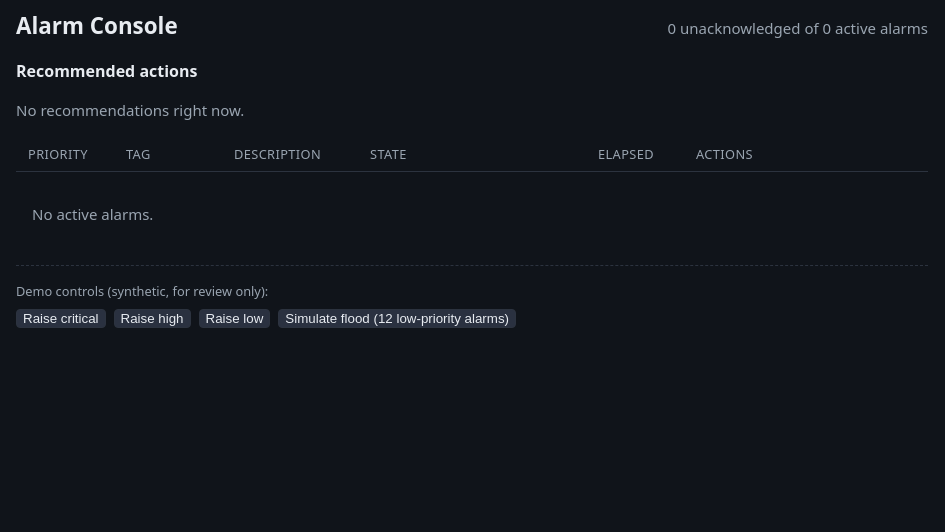
Scenario: AlarmConsole › accepting a SHELVE recommendation opens the real ShelveForm pre-filled, rather than shelving on one click
This screenshot has width=945, height=532.
What coordinates should you click on to do the following:
click the button "Raise low"
I would click on:
 (234, 319)
Its box is [198, 309, 270, 328].
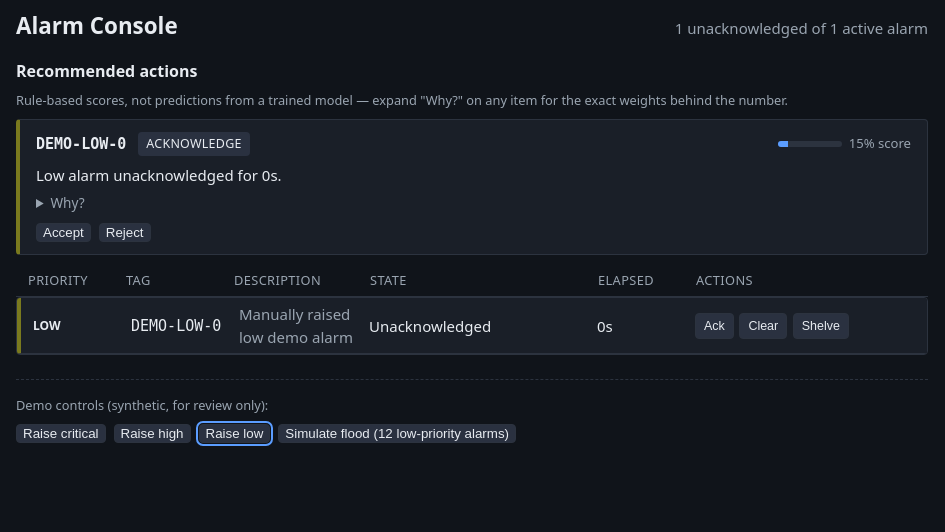
What coordinates should you click on to do the following:
click the button with aria-label "Acknowledge"
I would click on:
 (714, 326)
Its box is [695, 313, 734, 339].
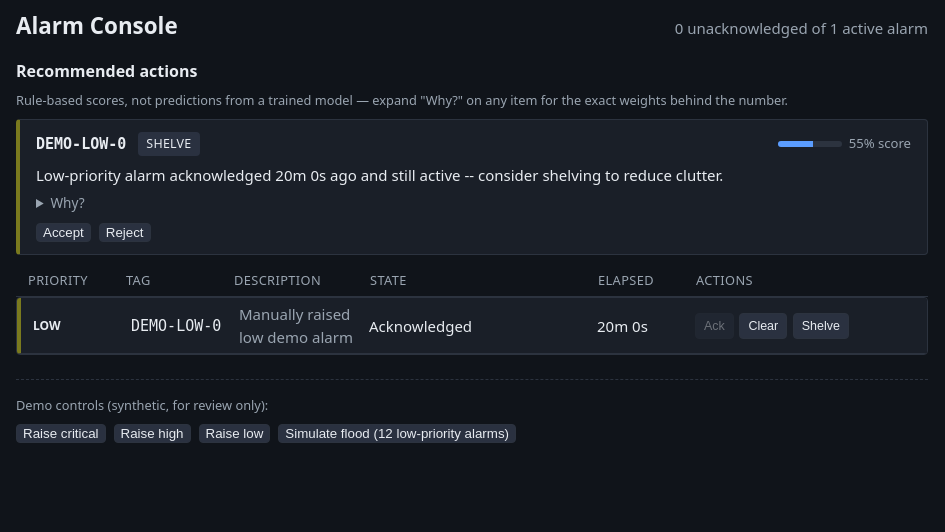
Check: the text "Shelve" is shown, box [138, 132, 200, 156]
What coordinates should you click on to do the following:
click the button with aria-label "Accept recommendation for"
I would click on:
 (63, 232)
Its box is [36, 223, 91, 242].
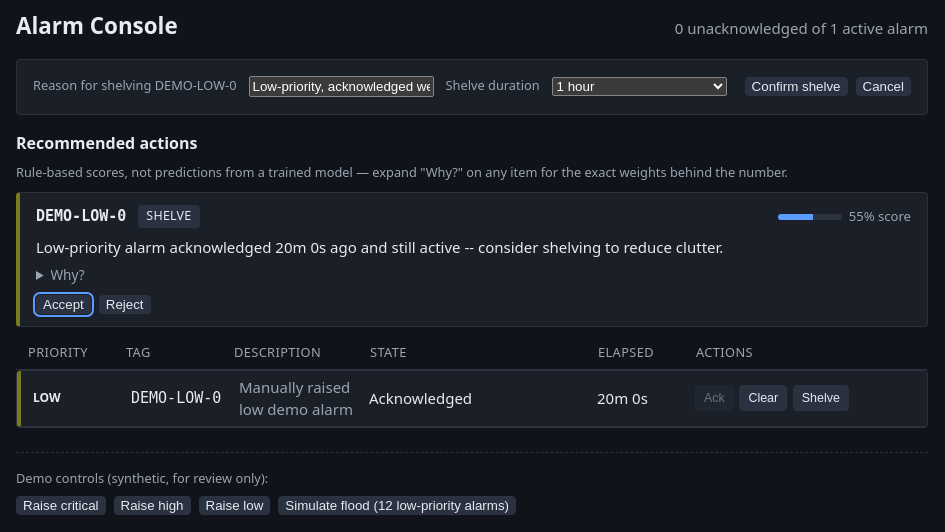
Check: the text "Acknowledged" is shown, box [369, 388, 472, 408]
What coordinates should you click on to do the following:
click the button "Confirm shelve"
I would click on:
 (796, 87)
Its box is [745, 77, 848, 96].
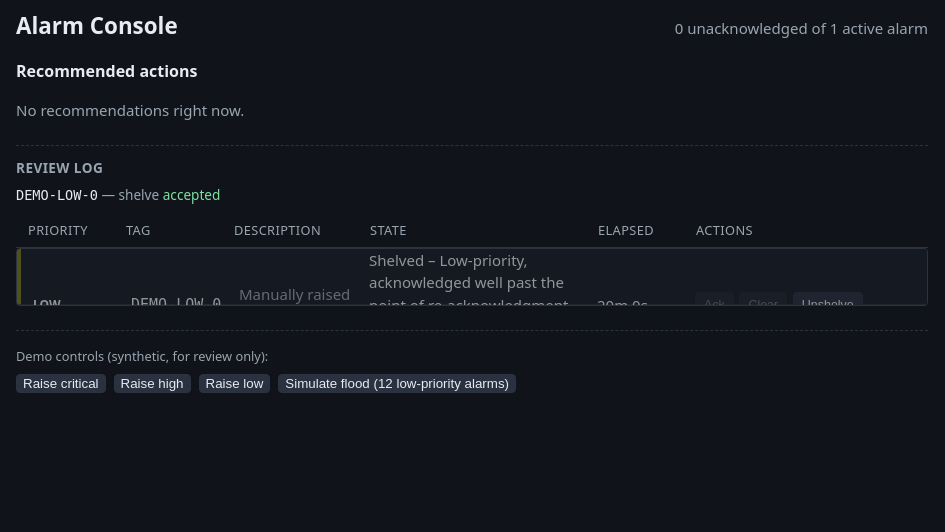
Check: the text "Shelved" is shown, box [369, 250, 424, 270]
Check: the list item "DEMO-LOW-0 — shelve accepted" is shown, box [16, 185, 220, 204]
Check: the text "accepted" is shown, box [163, 185, 220, 204]
